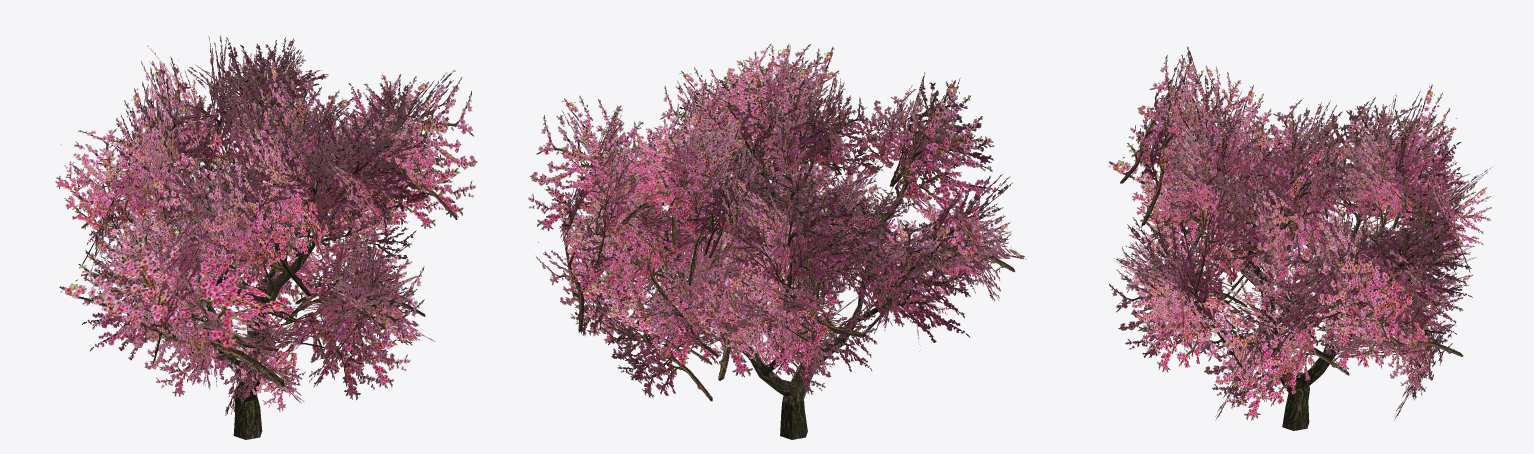
File: tree_a.FBX
3 views of the same model, side by side, from view 1: azimuth 30°, elevation 25°; view 2: azimuth 150°, elevation 25°; view 3: azimuth 270°, elevation 25° (orthographic). The views are drawn at different scales.
Parts seen in each view (by area): view 1: tree_a; view 2: tree_a; view 3: tree_a.
Part boxes in pixels (x1,y1,x2,y2): tree_a: (55,35,477,439); tree_a: (528,43,1026,439); tree_a: (1108,46,1491,430).
Size of the model in its own units: 10.3 by 7.57 by 8.57.
2 materials, 2 textured.
